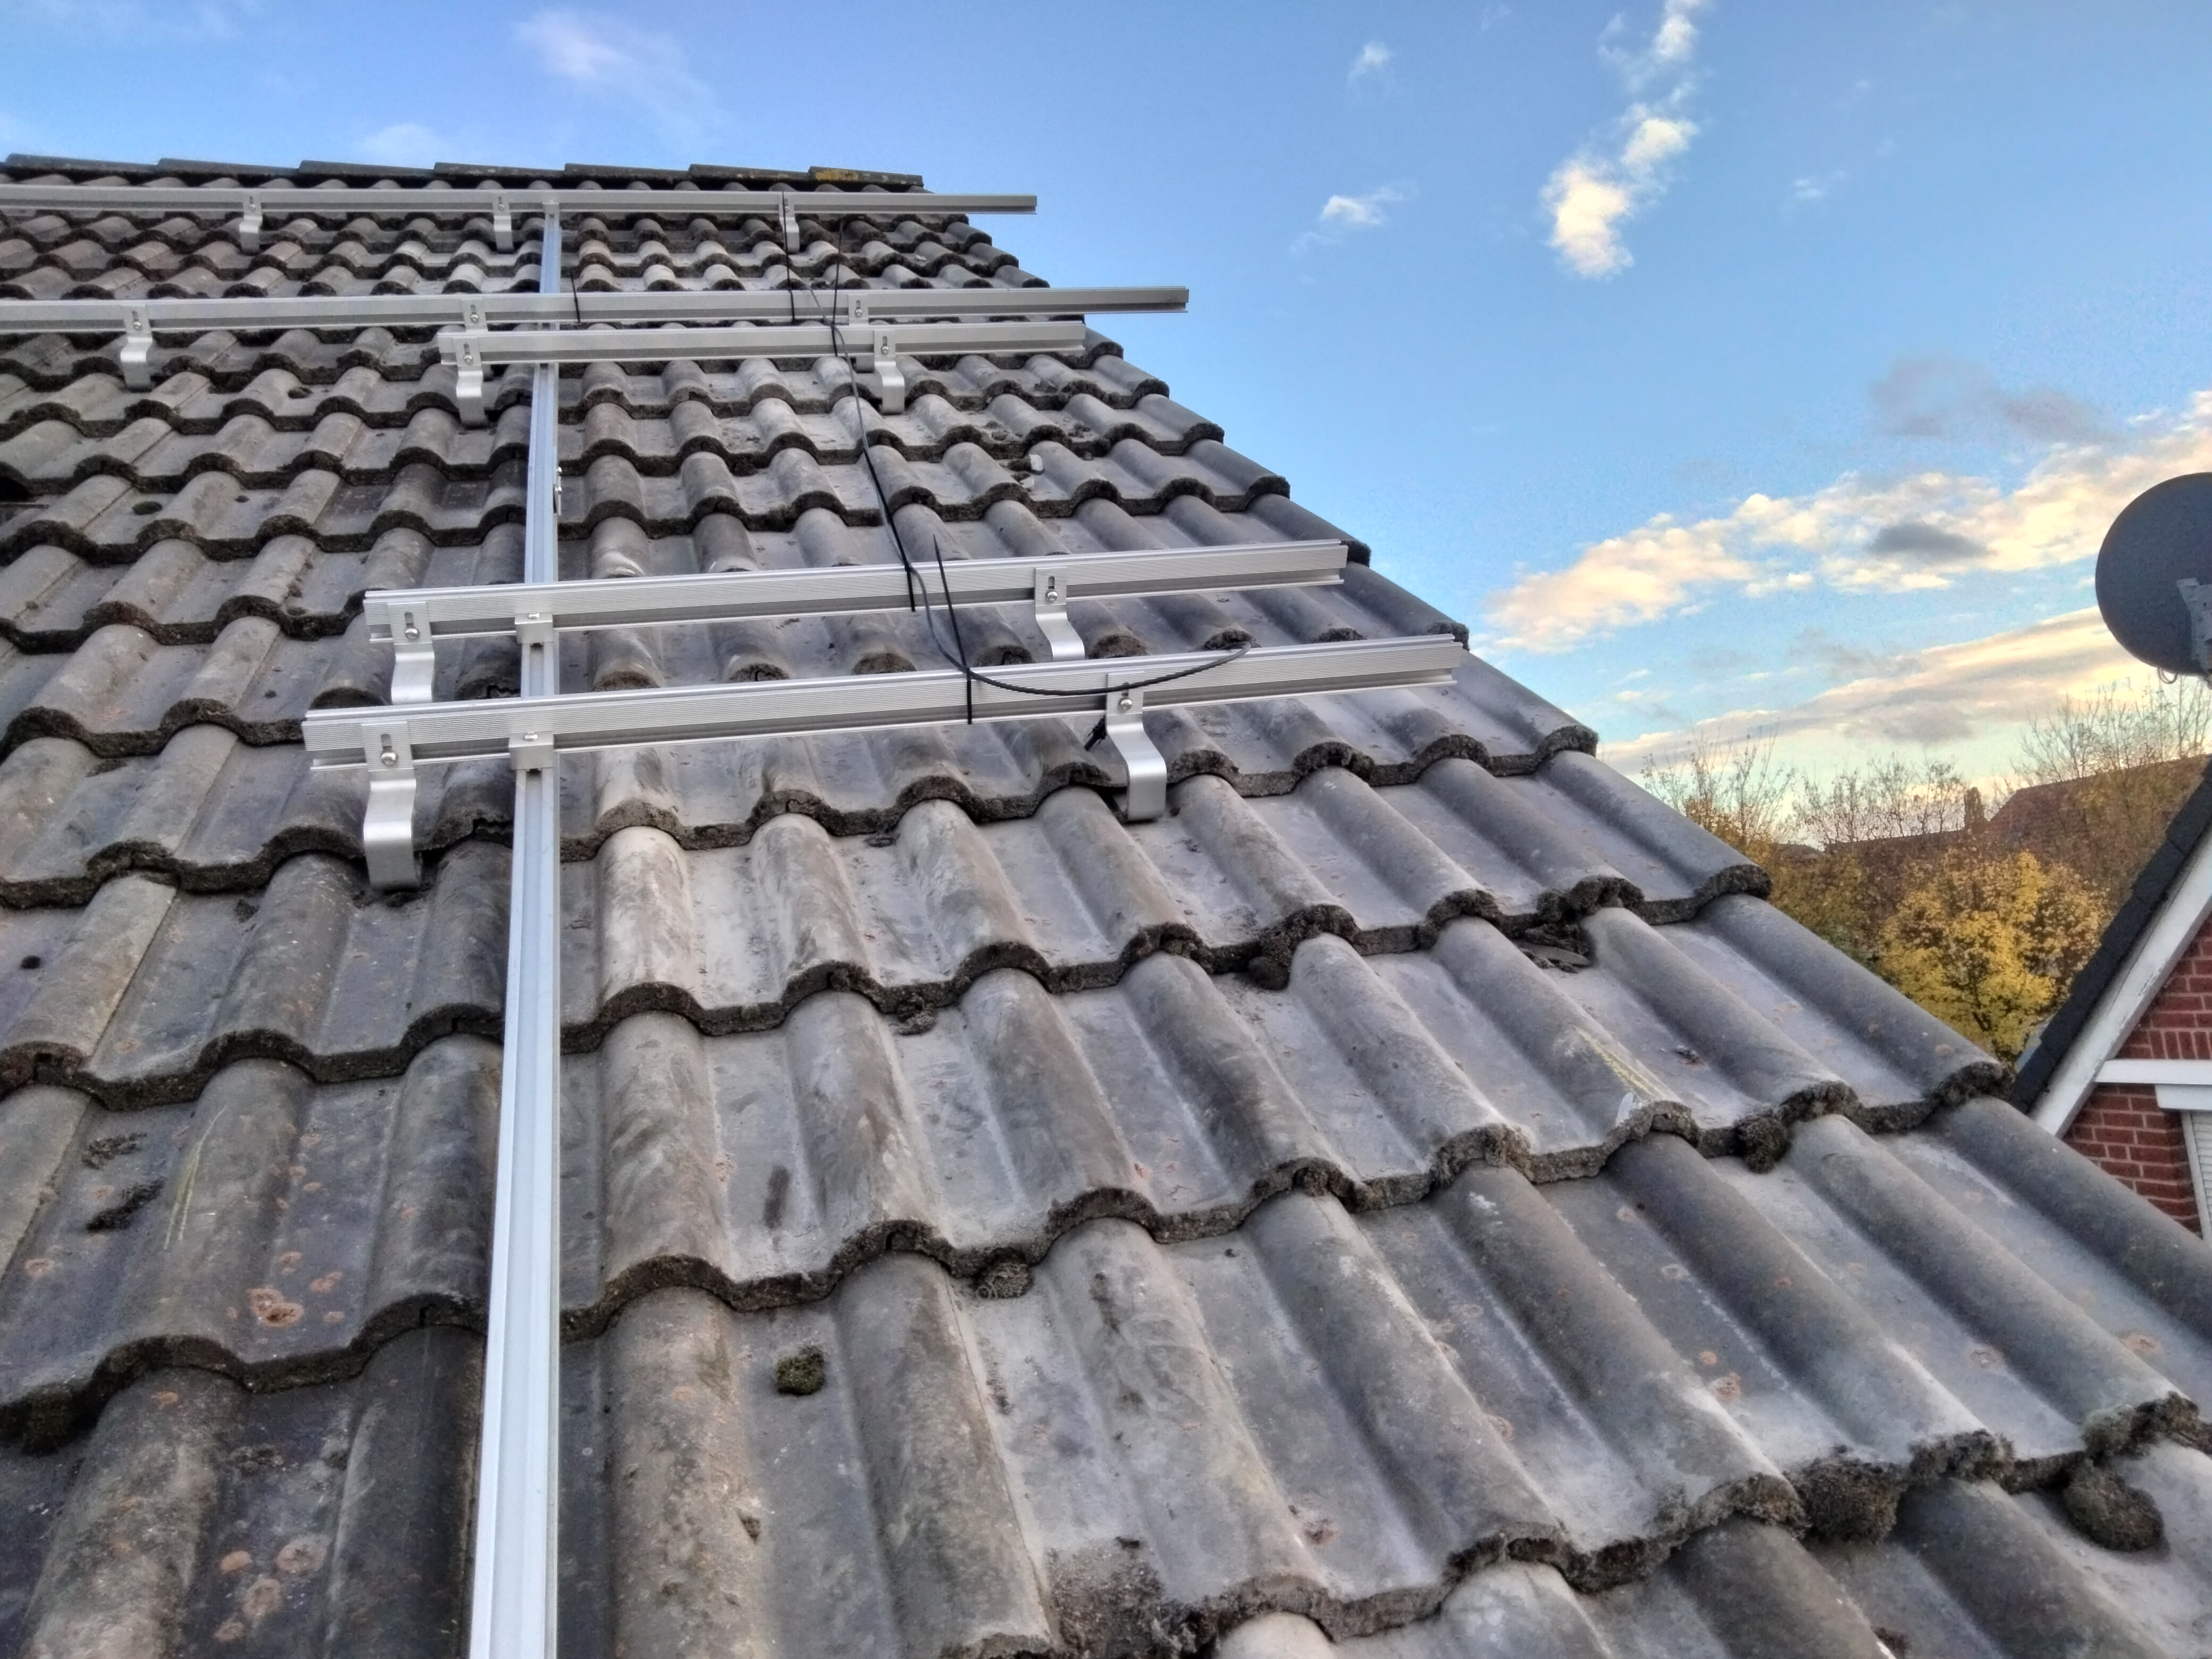hook: (361, 721, 427, 887), (1106, 671, 1167, 821), (387, 603, 434, 706), (1035, 566, 1085, 660), (453, 336, 491, 425), (120, 303, 157, 389), (873, 329, 906, 415), (491, 190, 516, 253), (239, 192, 263, 253), (779, 193, 799, 254), (462, 296, 489, 331), (850, 293, 869, 326), (853, 355, 874, 371)
